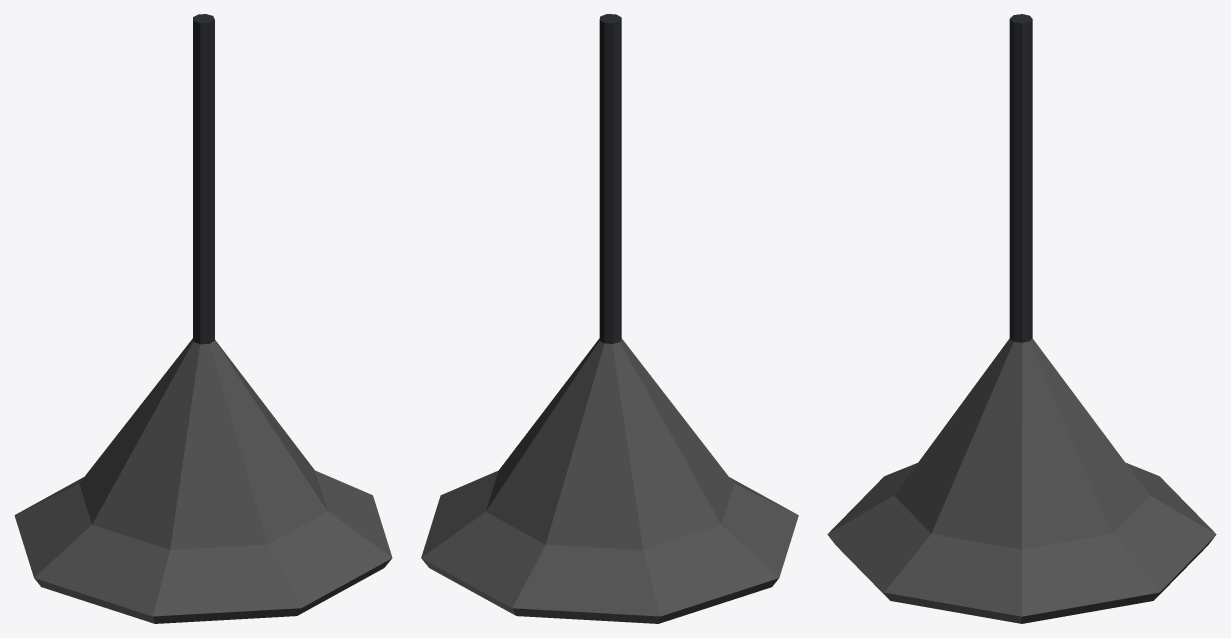
File: SM_Prop_Wire_Lights_03.glb
3 renders of one model, left to right at view 1: azimuth 30°, elevation 25°; view 2: azimuth 150°, elevation 25°; view 3: azimuth 270°, elevation 25°, orthographic.
Visible parts, largest first — view 1: SM_Prop_Wire_Lights_03; view 2: SM_Prop_Wire_Lights_03; view 3: SM_Prop_Wire_Lights_03.
Boxes of the visible parts, x1,y1,x2,y2 form: SM_Prop_Wire_Lights_03: [14, 14, 392, 623]; SM_Prop_Wire_Lights_03: [421, 14, 798, 623]; SM_Prop_Wire_Lights_03: [827, 14, 1216, 623].
Size of the model in its own units: 0.6152 by 0.9475 by 0.6152.
1 material, 1 textured.
